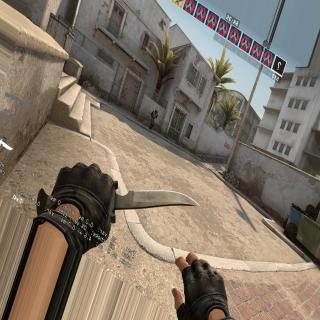CT-Body: (149, 108, 158, 127)
CT-Head: (154, 110, 158, 113)
